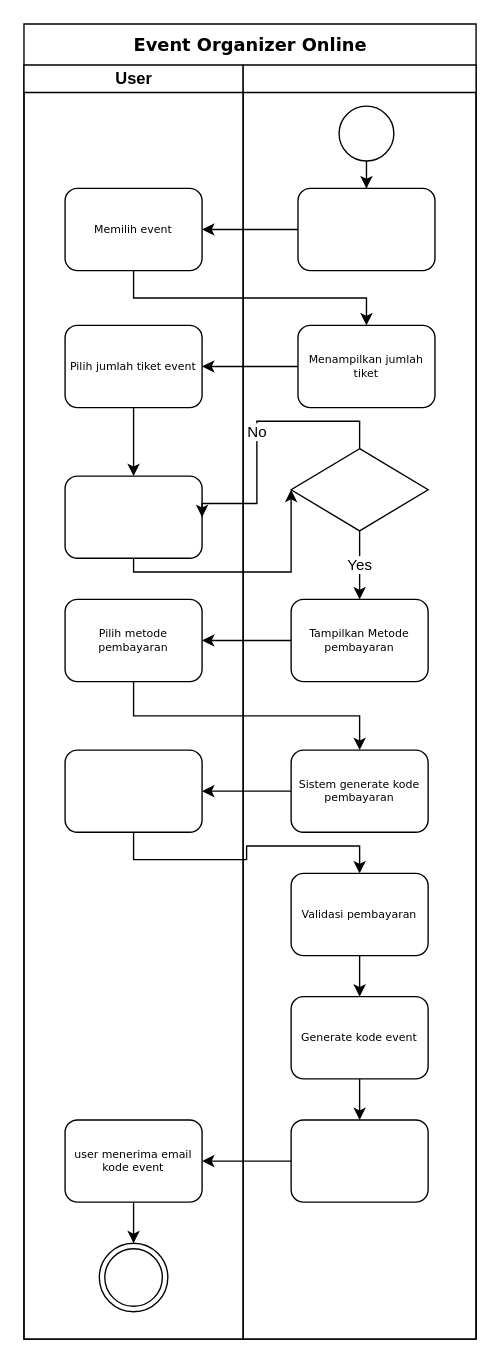
The diagram is 500 pixels wide and 1363 high, and some of its shapes have lost their labels. The box of each missing label's shape, as (x1, y1, x2, y2) in pixels:
Kirim email ke user: (290, 1119, 428, 1202)
Menampilkan event tersedia: (297, 187, 435, 271)
Mengisi form pengisian event: (64, 475, 202, 558)
System: (242, 64, 476, 1339)
User melakukan pembayaran: (64, 749, 202, 832)
Verifikasi form: (290, 447, 428, 531)
